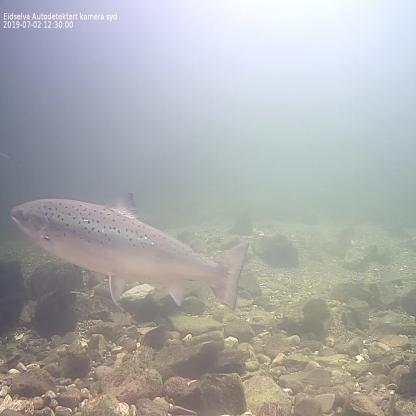salmon: (9, 191, 250, 314)
